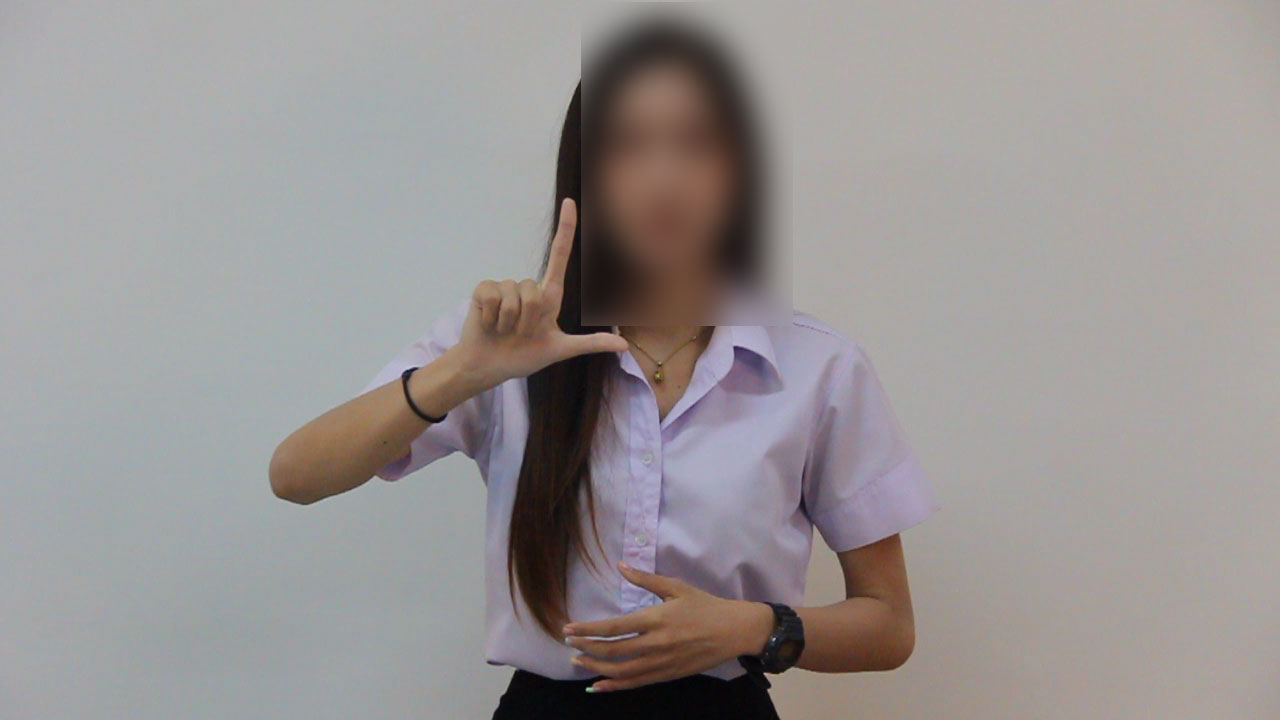lor: (449, 190, 654, 416)
